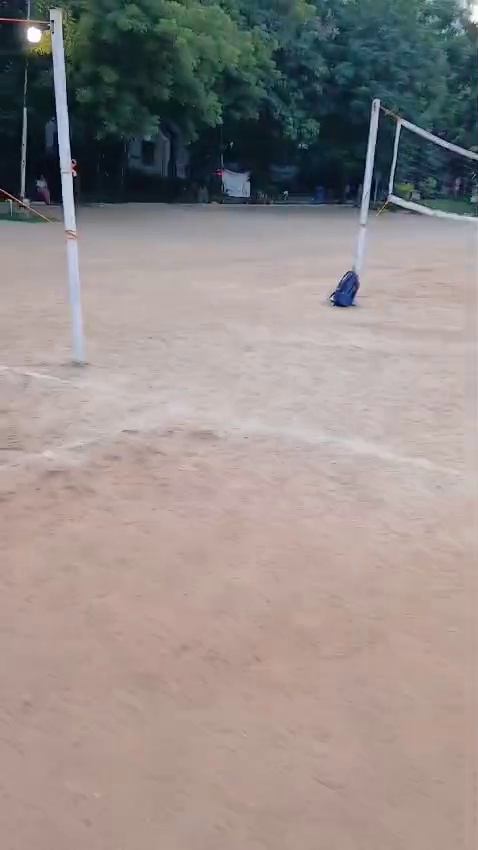bag: (327, 265, 361, 311)
